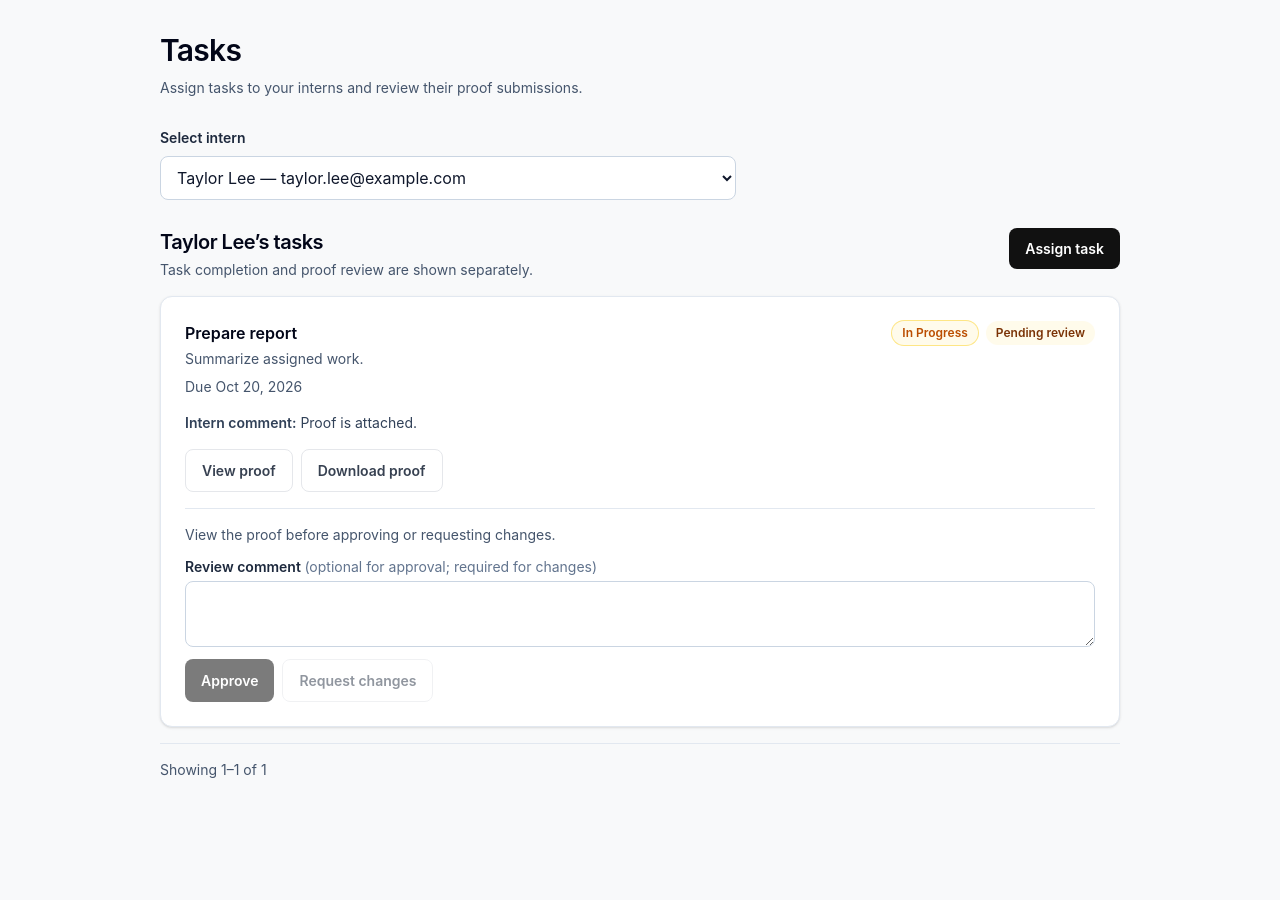
Test case: CompanyTasksView › shows a recoverable error when a proof download fails
Click the button with test id "download-task-proof-3": [372, 470] box top-left (301, 449), bottom-right (442, 492)
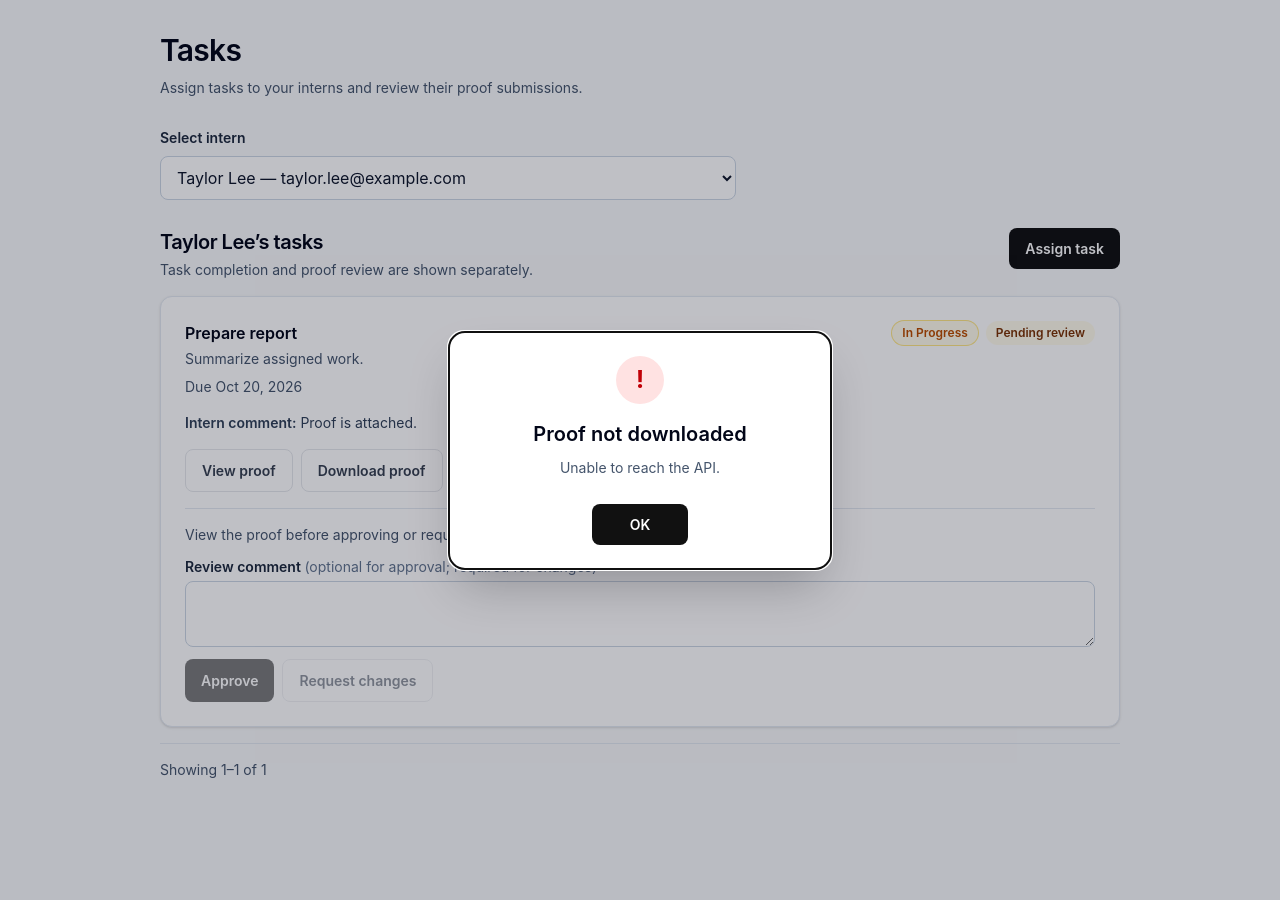
Expected: the dialog with test id "action-alert" shows "Unable to reach the API", top-left (560, 458), bottom-right (720, 476)
